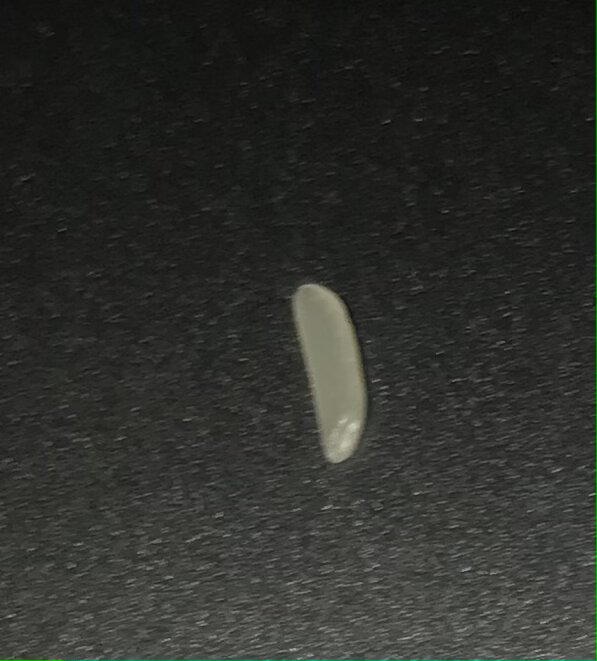Gao Long Lai: (279, 266, 380, 474)
